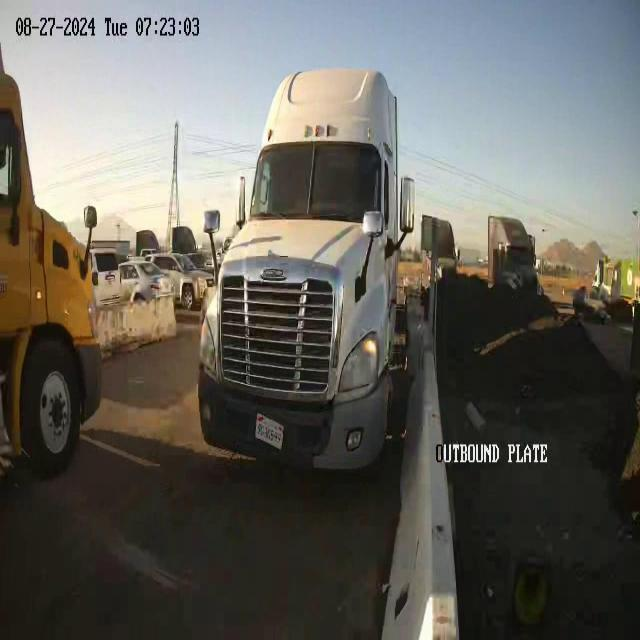TRUCK_IN: (197, 66, 415, 476)
